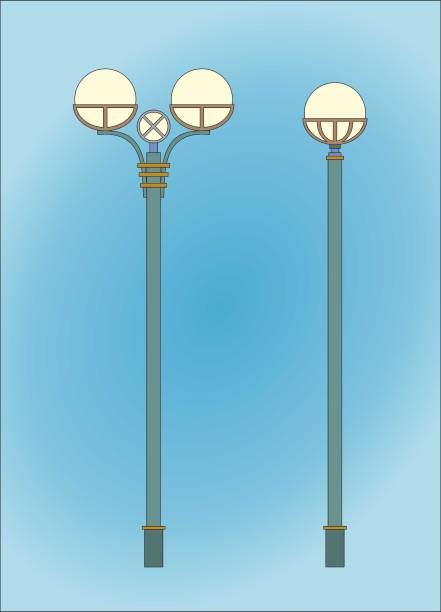light_pole: (134, 165, 174, 573), (322, 156, 346, 560)
